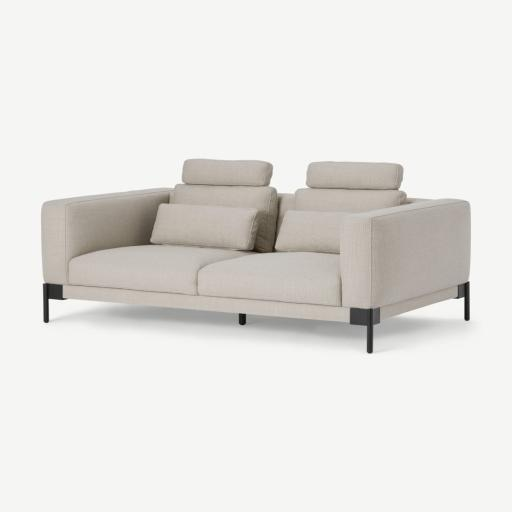back_cushion: (152, 184, 278, 252), (277, 189, 405, 253)
base: (64, 286, 349, 322), (381, 286, 456, 318)
left_arm: (340, 199, 470, 309)
legs: (350, 308, 380, 353), (43, 284, 66, 323), (458, 282, 469, 320), (239, 314, 246, 325)
right_arm: (42, 189, 170, 285)
seat_cushion: (69, 245, 341, 306)
two-seater: (0, 0, 511, 512)
